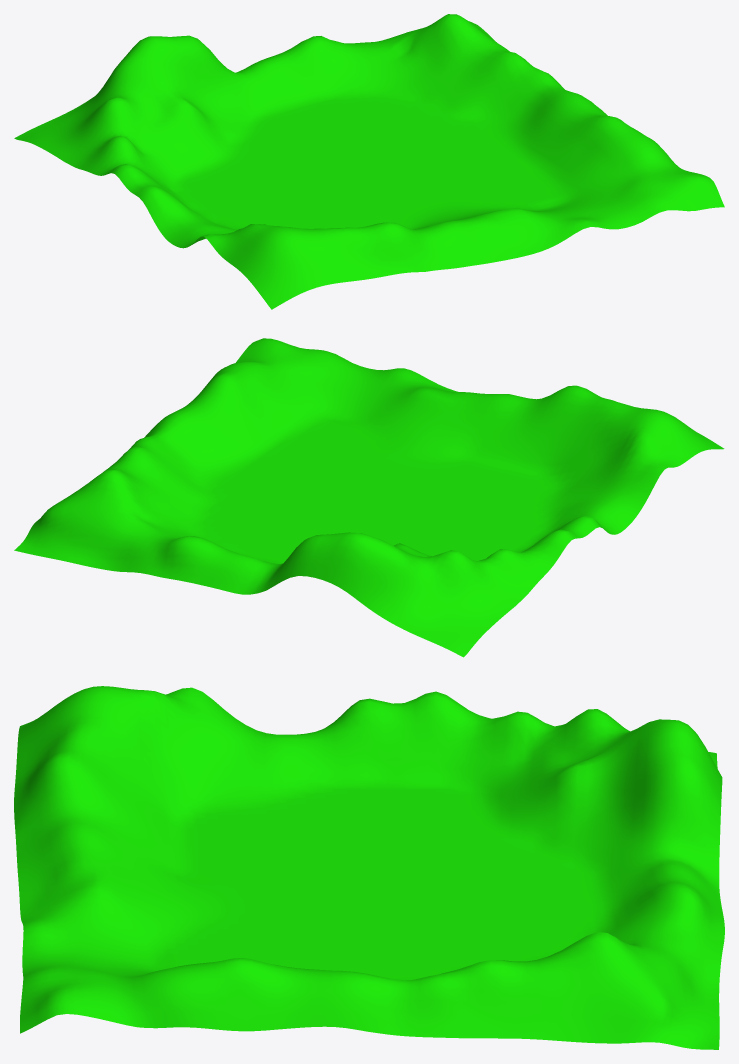
File: Ground.fbx
3 views of the same model, one above another, from view 1: azimuth 30°, elevation 25°; view 2: azimuth 150°, elevation 25°; view 3: azimuth 270°, elevation 25° (orthographic). The views are drawn at different scales.
Parts seen in each view (by area): view 1: Grond; view 2: Grond; view 3: Grond.
Part boxes in pixels (<box>): Grond: <box>14,14,724,309</box>; Grond: <box>14,338,724,657</box>; Grond: <box>14,686,724,1049</box>.
Size of the model in its own units: 221 by 221 by 38.66.
